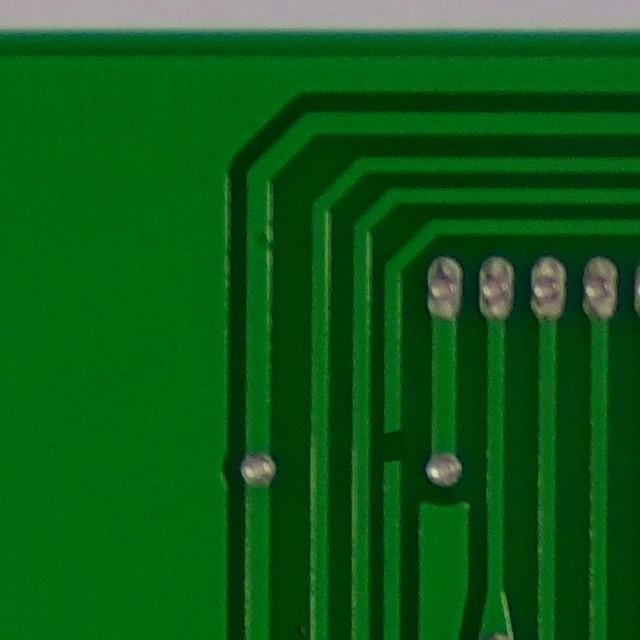open_circuit: (373, 419, 418, 477)
